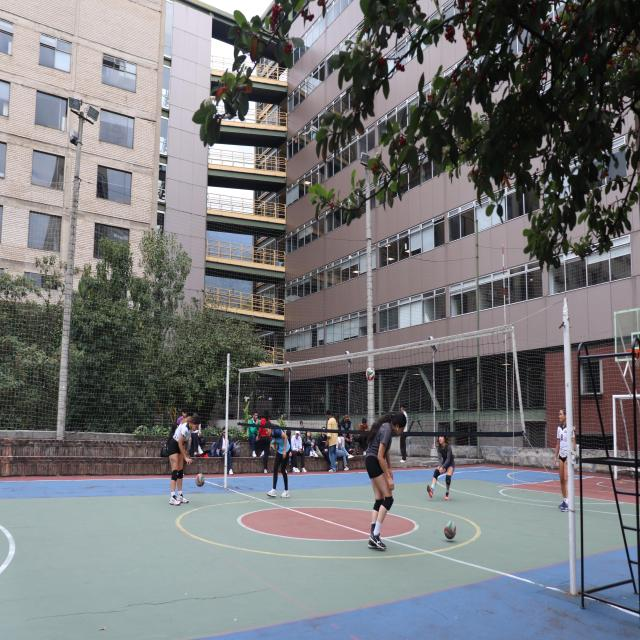volleyball: (444, 520, 456, 540), (366, 367, 376, 381), (196, 473, 204, 487)
